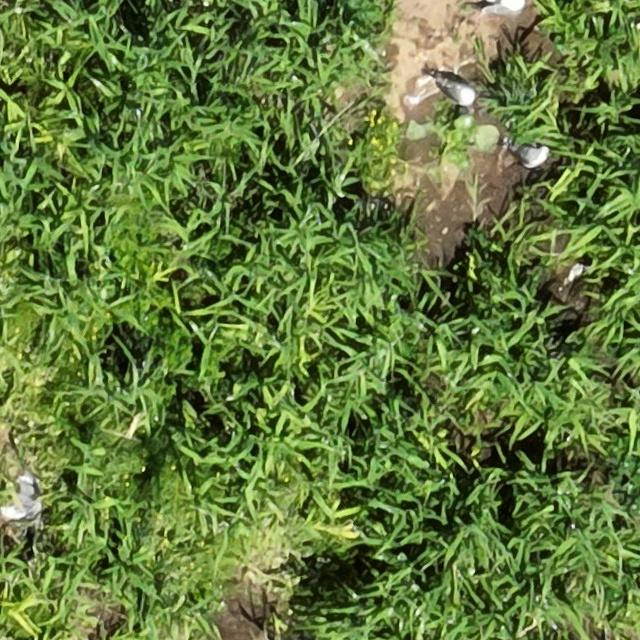umineko: (506, 145, 550, 167), (438, 80, 475, 104), (482, 1, 529, 16)
